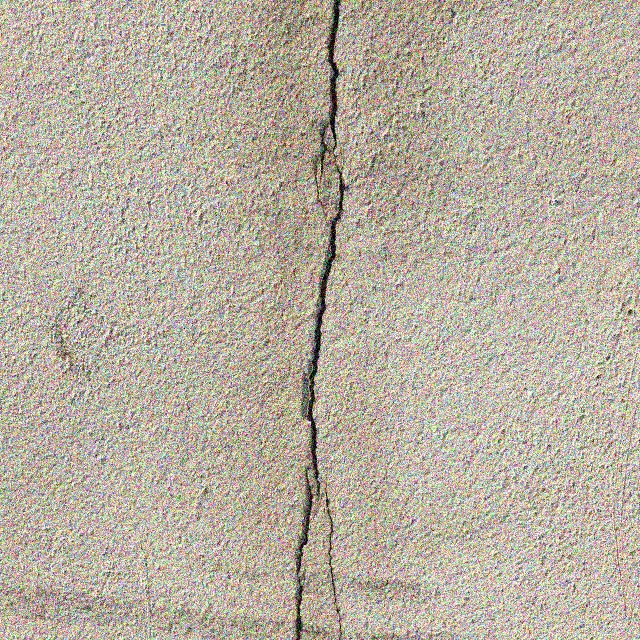SurfaceCrack: (250, 1, 387, 640)
